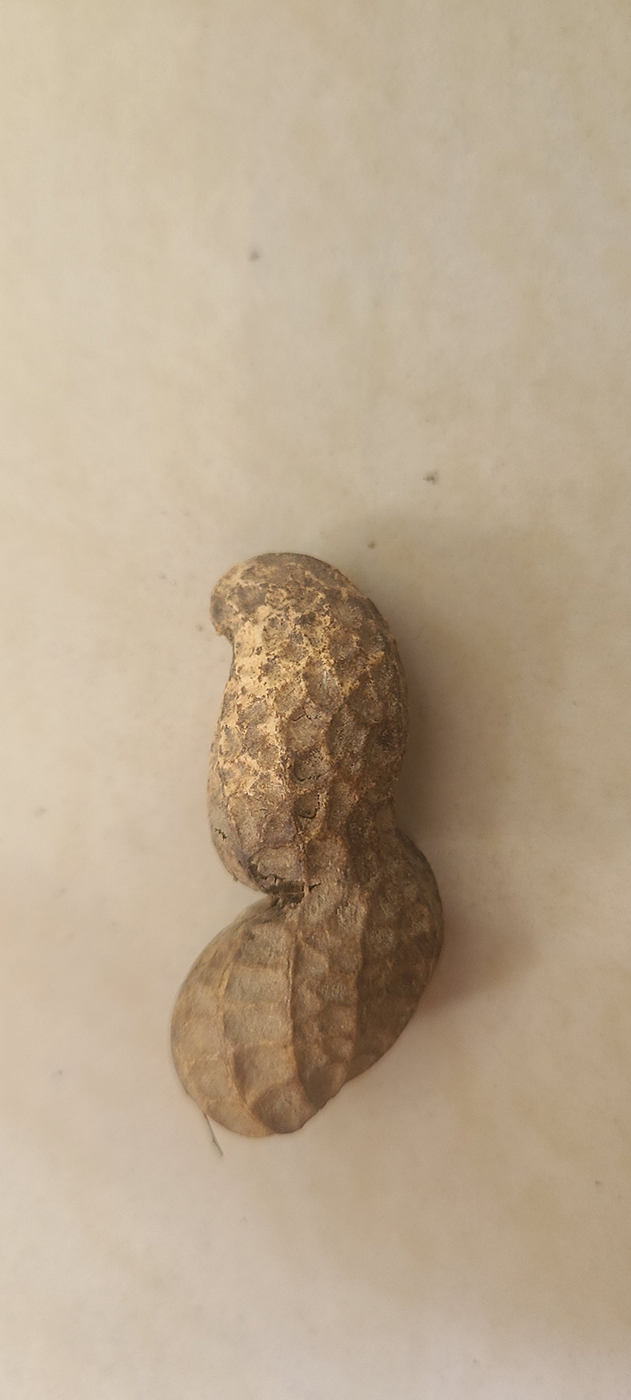l: (164, 550, 445, 1140)
